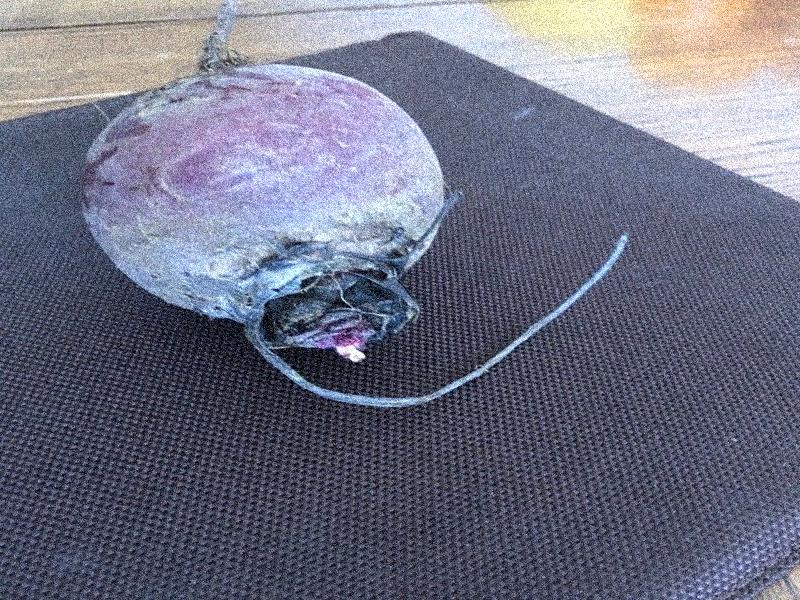Beet: (79, 1, 629, 407)
